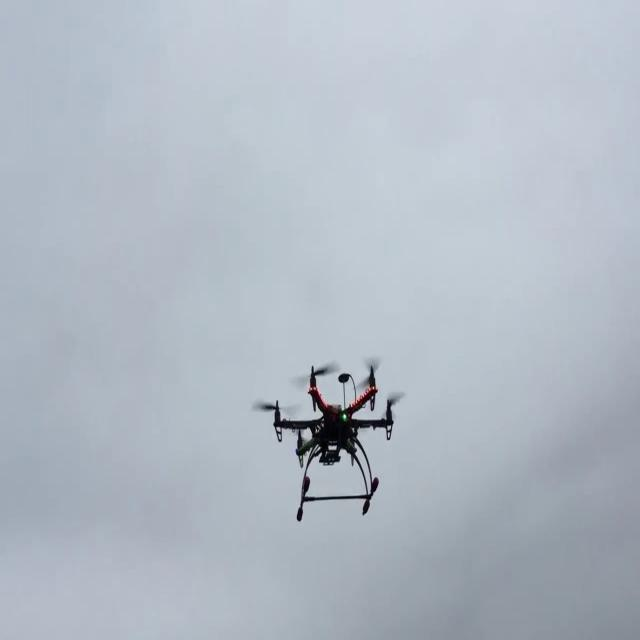drone: (242, 338, 426, 560)
